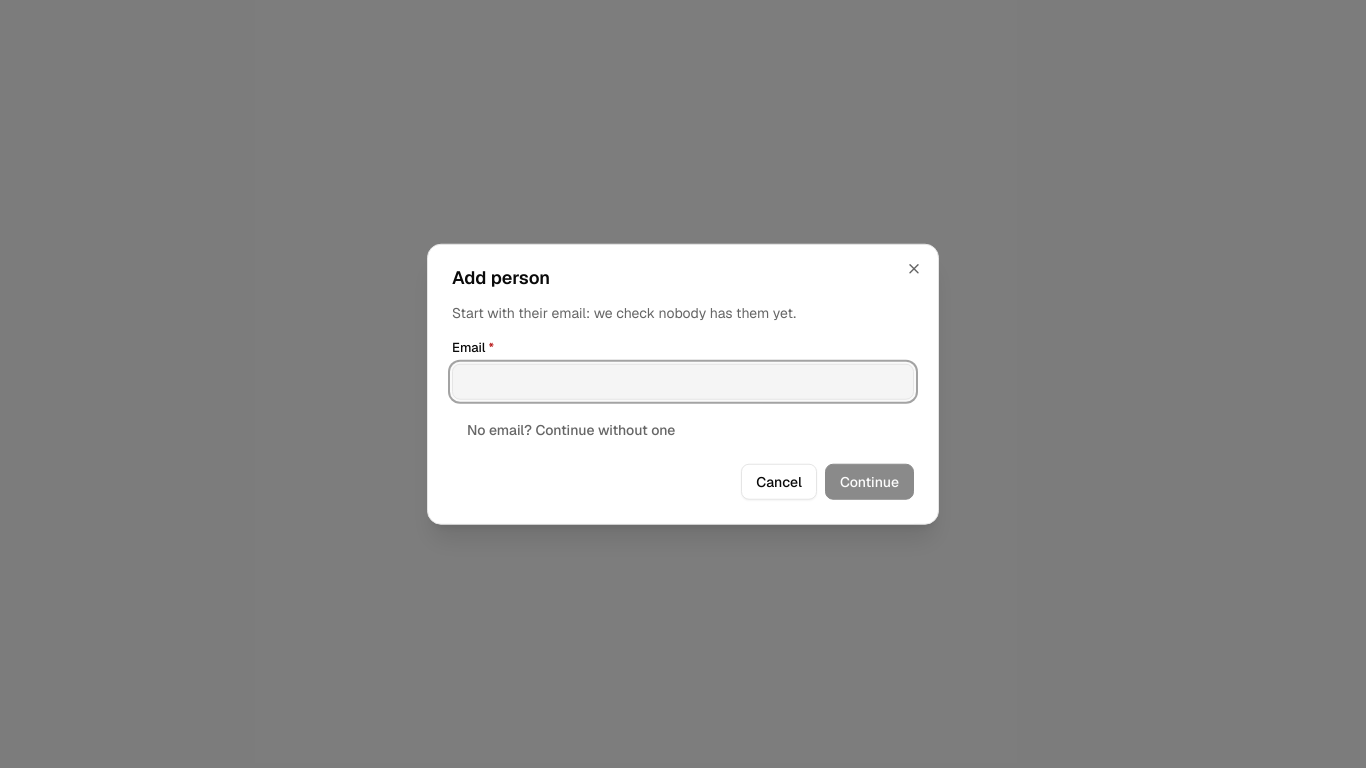
Test: Add person: the address first › a lead with no address skips the check
Click the button "No email? Continue without one" at (571, 429), box x1=452 y1=411 x2=690 y2=447
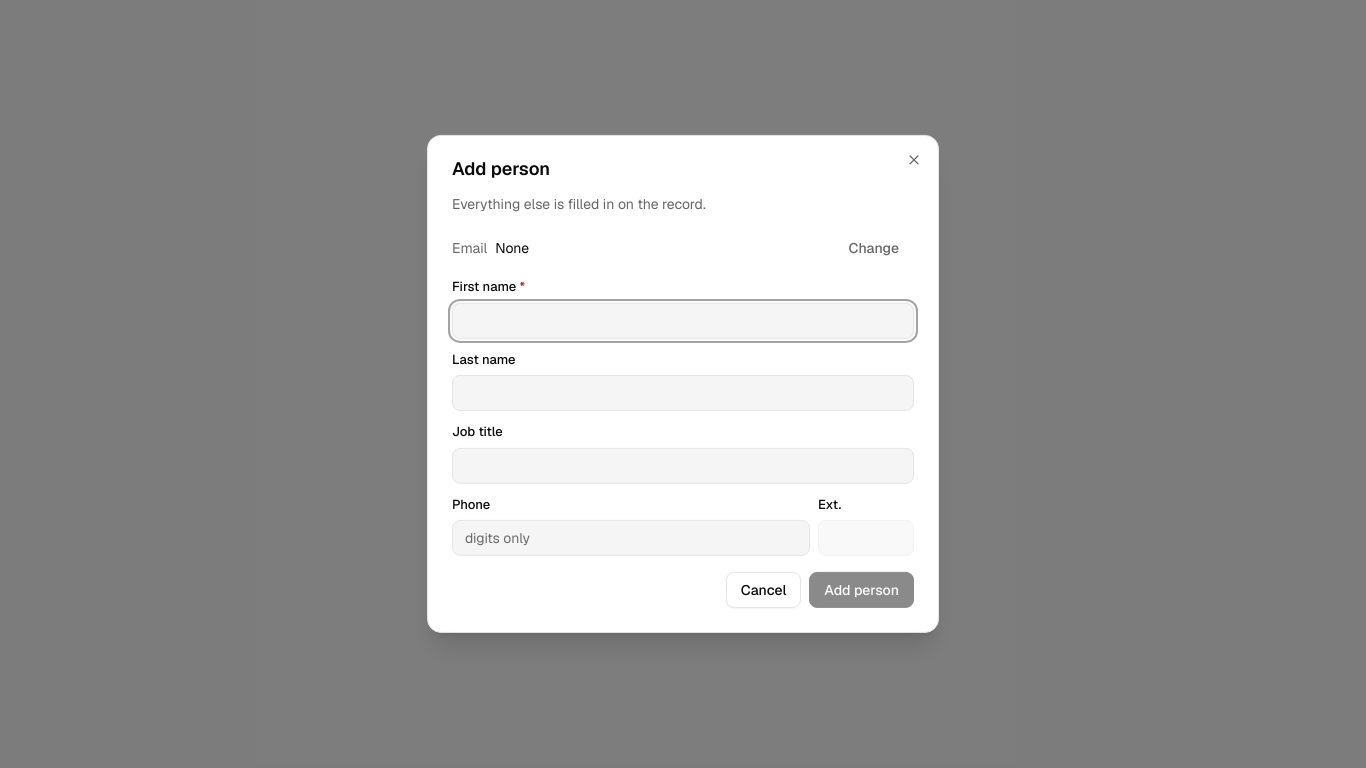
Expected: the field labelled "First name *" is shown, x1=452 y1=302 x2=914 y2=338
